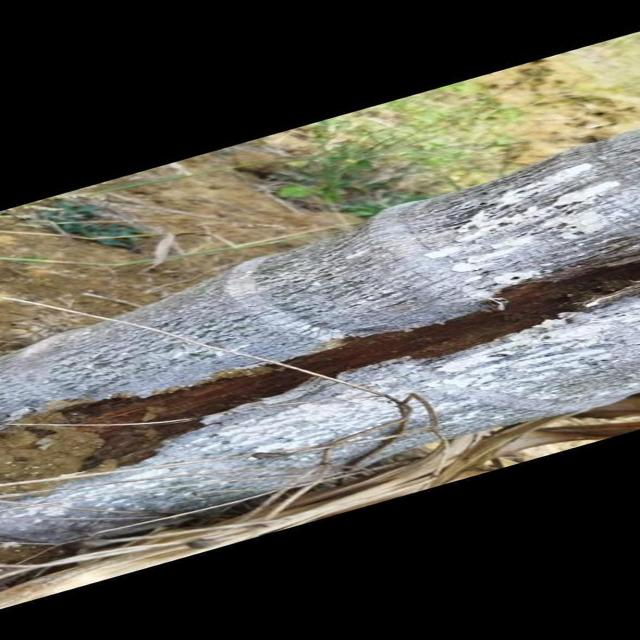Stem_Cracking: (136, 215, 555, 457)
